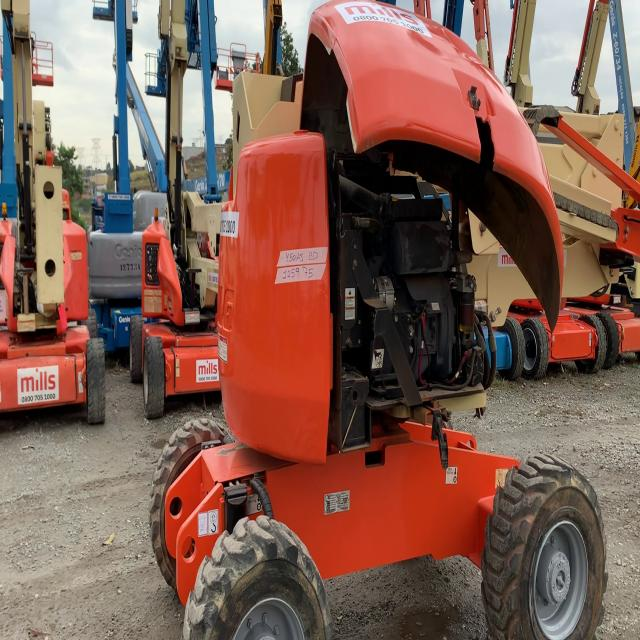Adesivos: (333, 1, 433, 39), (17, 363, 60, 406), (196, 359, 220, 383)
